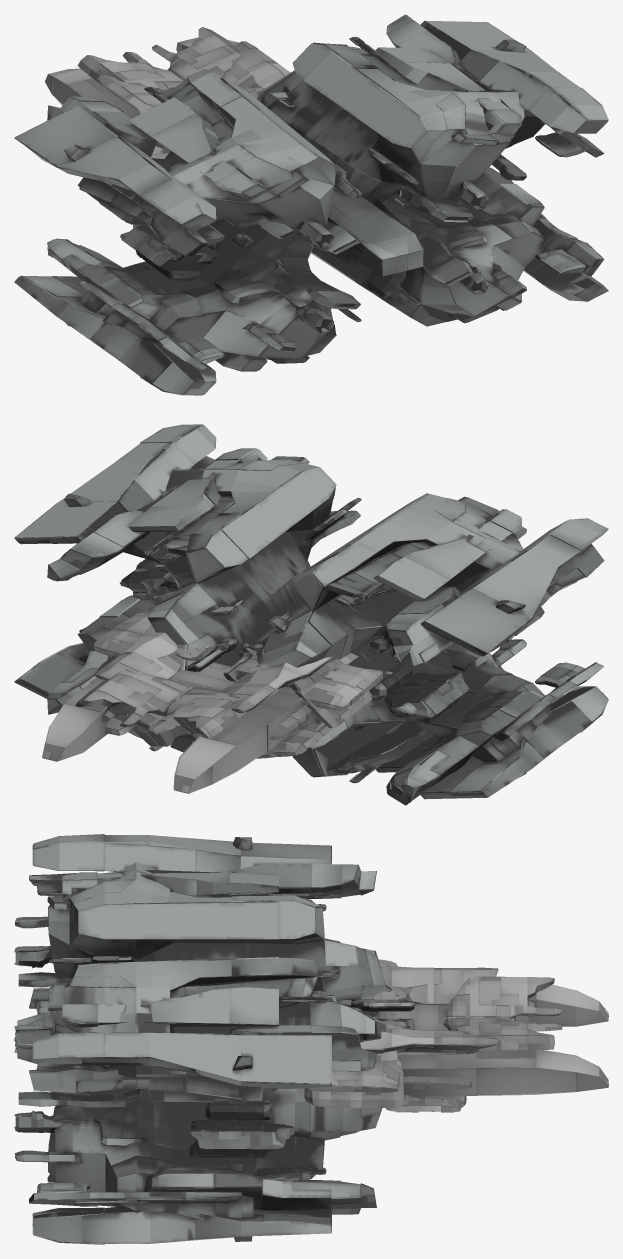
Rendered from Destroyer_001.fbx.
3 renders of one model, top to bottom at view 1: azimuth 30°, elevation 25°; view 2: azimuth 150°, elevation 25°; view 3: azimuth 270°, elevation 25°, orthographic. The views are drawn at different scales.
Visible parts, largest first — view 1: Destroyer_001; view 2: Destroyer_001; view 3: Destroyer_001.
Part boxes in pixels (x1,y1,x2,y2): Destroyer_001: (14, 14, 608, 395); Destroyer_001: (14, 424, 608, 805); Destroyer_001: (14, 834, 608, 1244).
Bounding box in the file's own units: 47.14 × 20.23 × 49.42.
